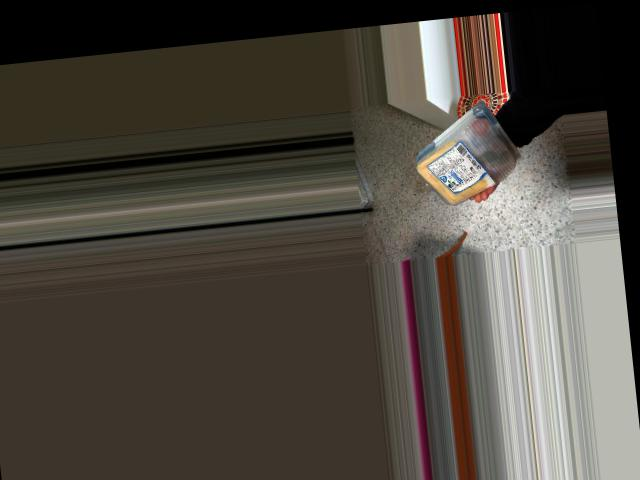cheese: (413, 113, 515, 207)
